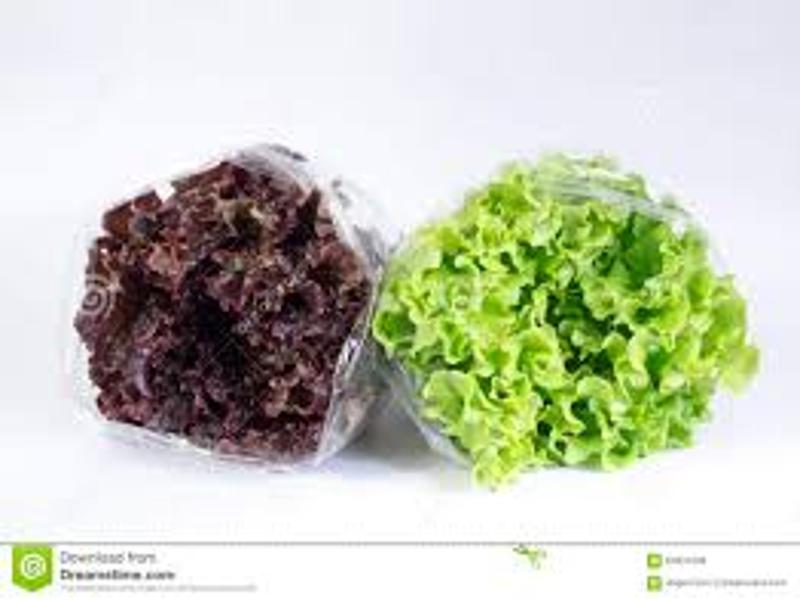green lettuce: (421, 167, 748, 472), (81, 165, 365, 458)
